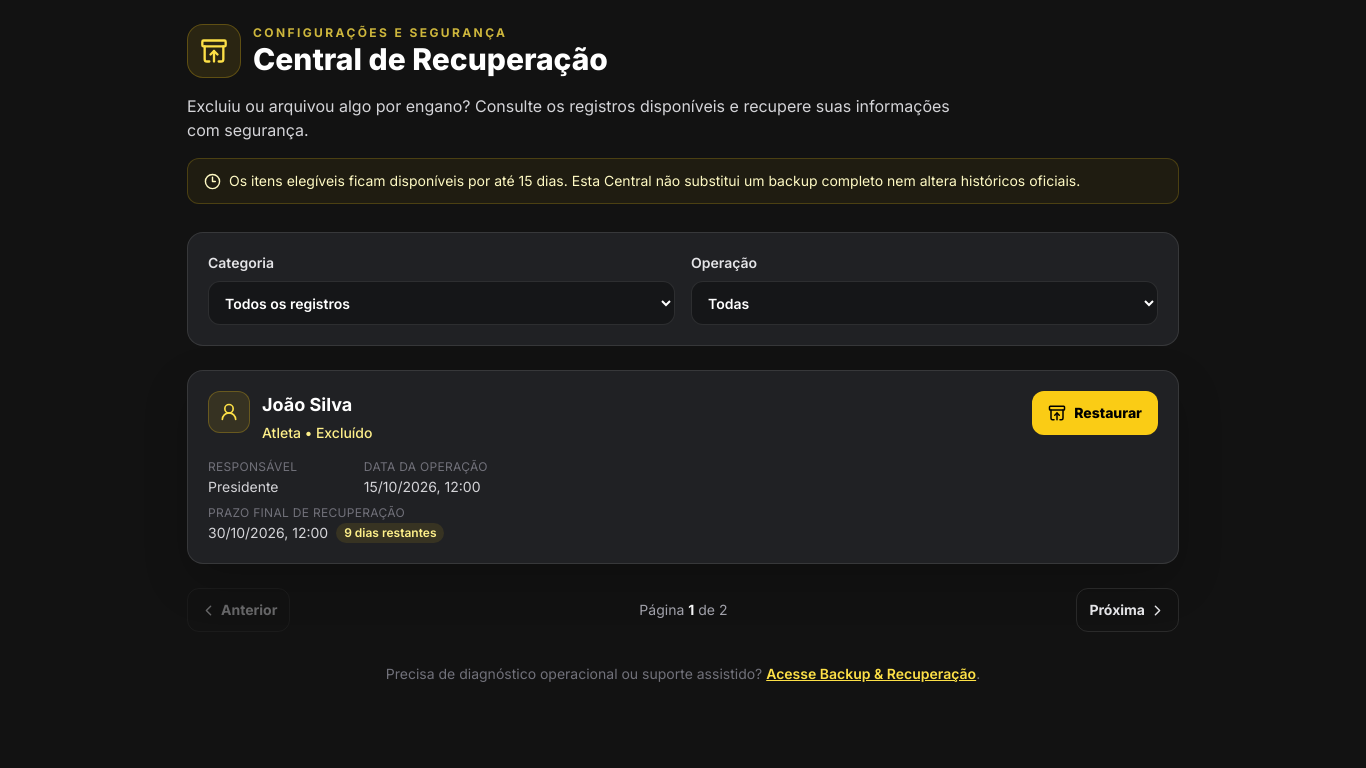
it: RecoveryCenterClient › não apresenta falso sucesso após erro 409
Click the button "Restaurar" at (1095, 413), box [1032,391,1158,435]
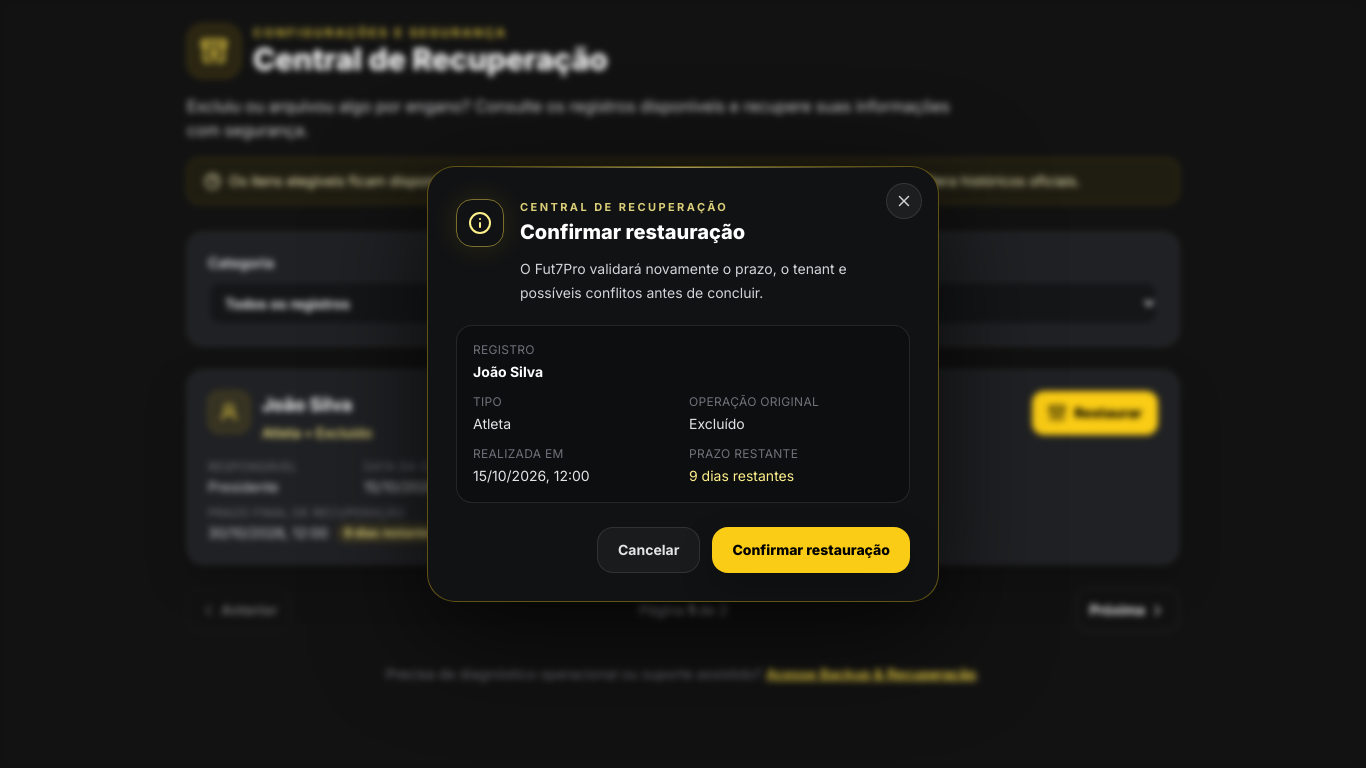
Click the button "Confirmar restauração" at (811, 550), box [712,527,910,573]
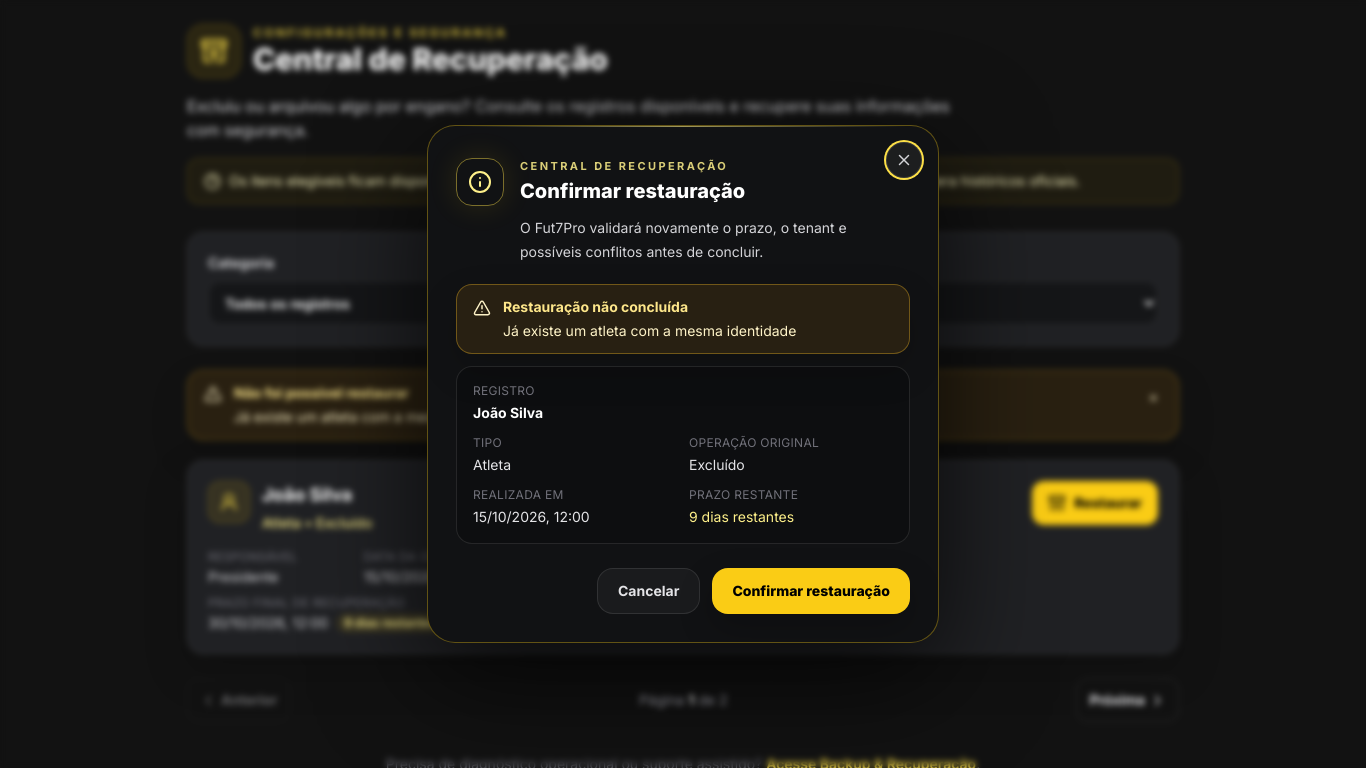
Now the text "Já existe um atleta com a mesma identidade" below "Não foi possível restaurar" is shown, box [234,408,527,425]
